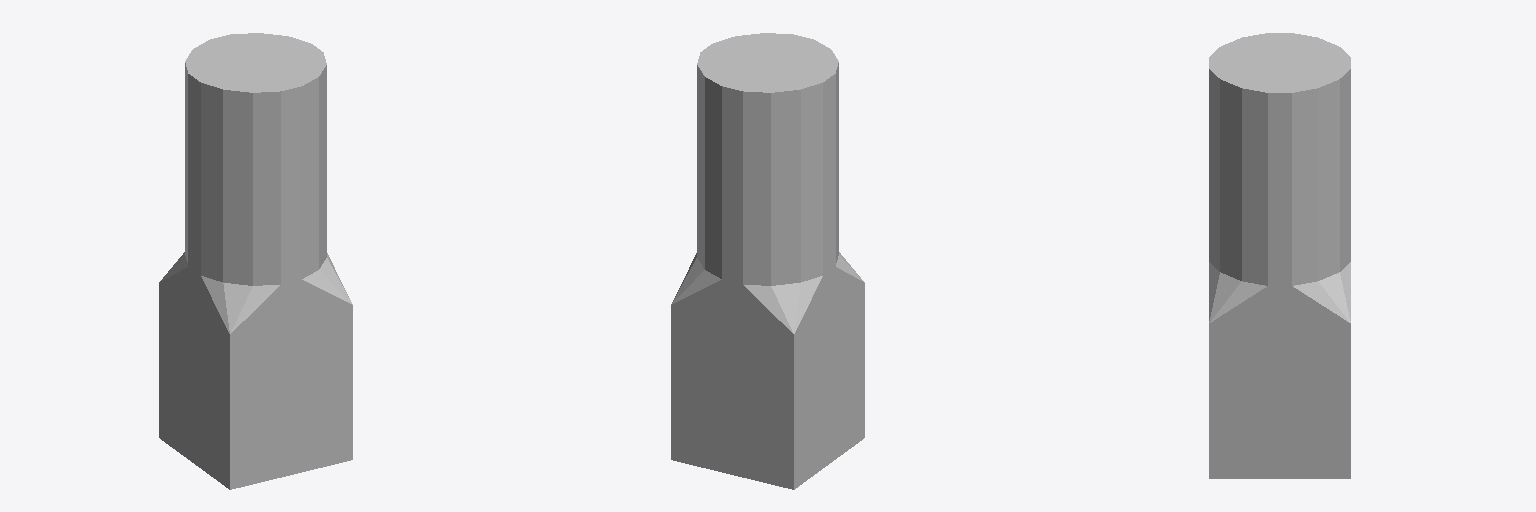
The model's file is Bar09.obj.
3 renders of one model, left to right at view 1: azimuth 30°, elevation 25°; view 2: azimuth 150°, elevation 25°; view 3: azimuth 270°, elevation 25°, orthographic.
Visible parts, largest first — view 1: Bar09; view 2: Bar09; view 3: Bar09.
Part boxes in pixels (bbox=[...]): Bar09: bbox=[159, 33, 352, 489]; Bar09: bbox=[671, 33, 864, 489]; Bar09: bbox=[1209, 33, 1350, 478].
Bounding box in the file's own units: 0.6667 × 2 × 0.6667.